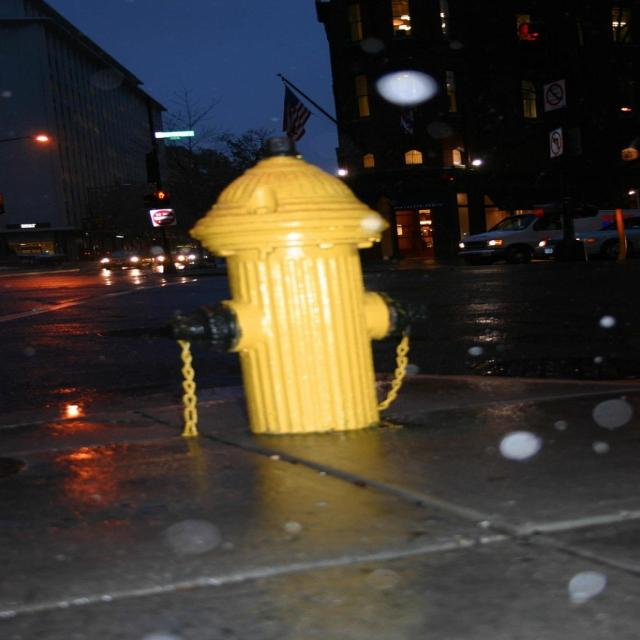fire_hydrant: (112, 147, 462, 476)
